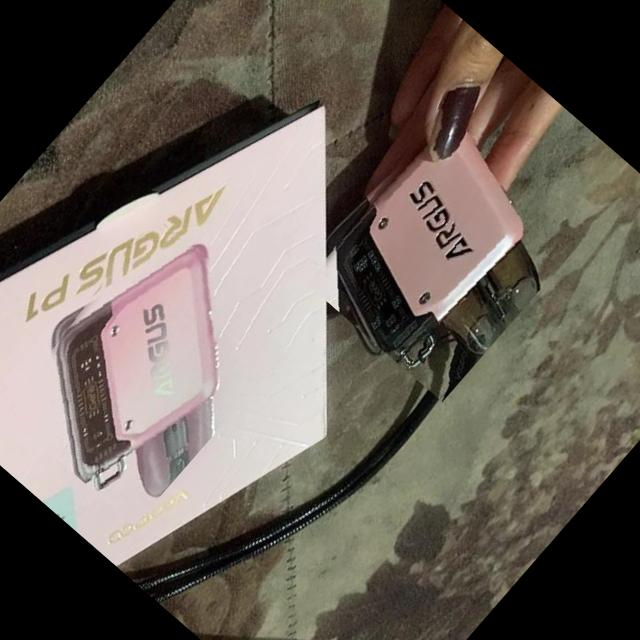Hazard: (0, 209, 299, 525), (292, 100, 590, 402)
